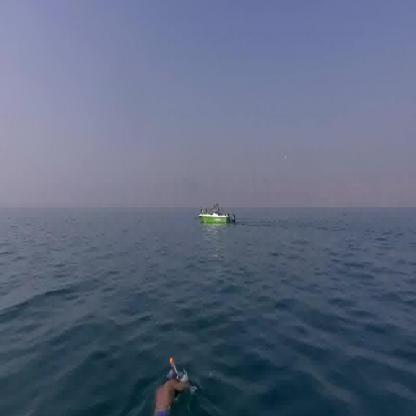Boat: (202, 200, 235, 228)
